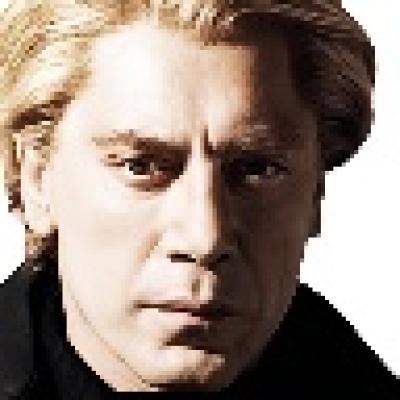angry: (64, 17, 310, 387)
